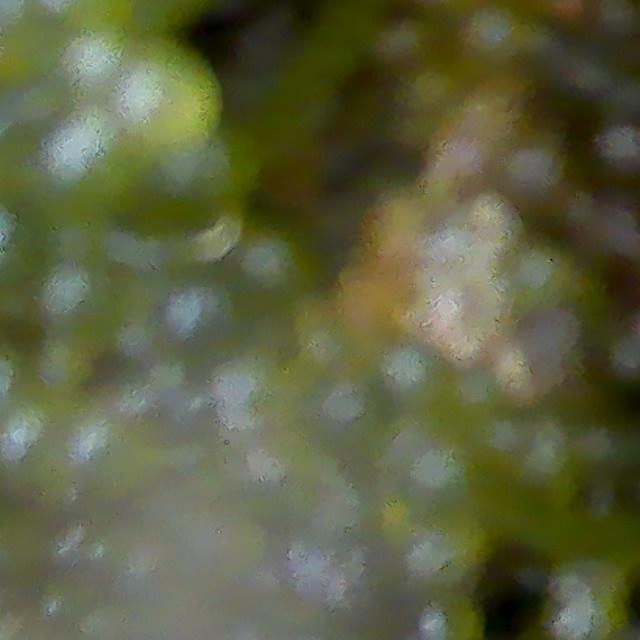SeaGrape: (113, 43, 218, 149), (44, 107, 149, 213), (308, 369, 388, 451), (37, 257, 115, 332), (236, 226, 311, 300), (378, 338, 452, 413), (595, 122, 640, 189)
